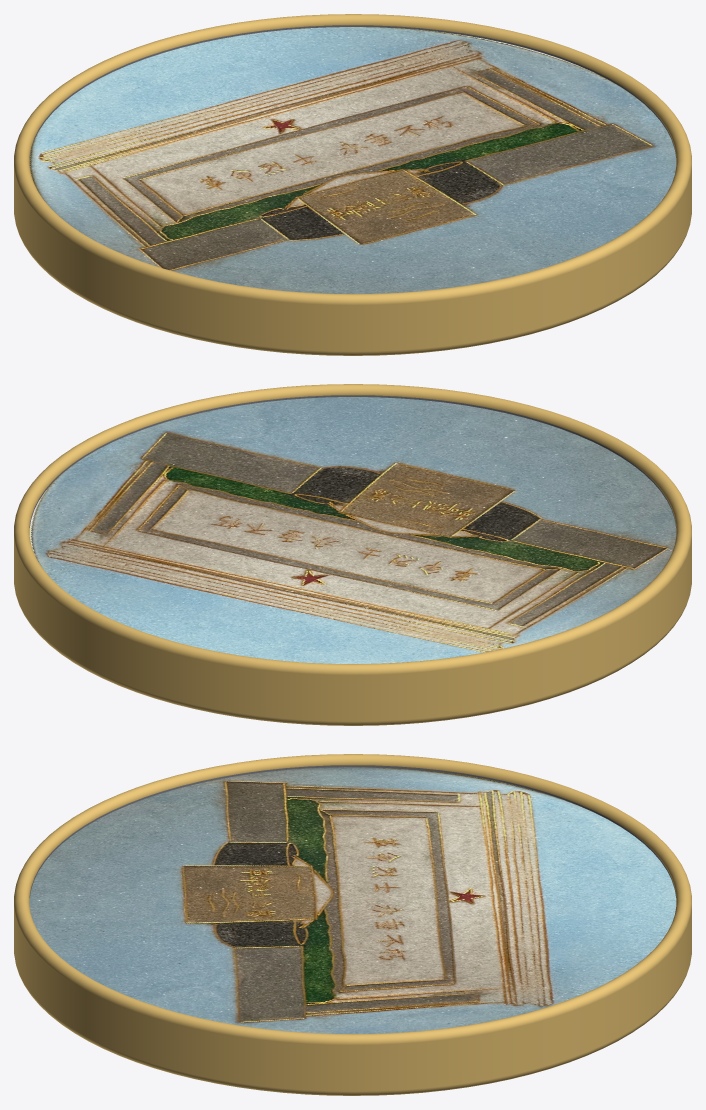
File: 朱泾无名烈士墓.glb
3 views of the same model, one above another, from view 1: azimuth 30°, elevation 25°; view 2: azimuth 150°, elevation 25°; view 3: azimuth 270°, elevation 25° (orthographic).
Parts seen in each view (by area): view 1: Mesh_1, Mesh_2, Mesh_0; view 2: Mesh_1, Mesh_2, Mesh_0; view 3: Mesh_1, Mesh_2, Mesh_0.
Boxes of the visible parts, box(x1,y1,x2,y2) form: Mesh_1: box(29, 27, 676, 293); Mesh_2: box(14, 14, 691, 355); Mesh_0: box(29, 25, 676, 157); Mesh_1: box(29, 397, 676, 663); Mesh_2: box(14, 384, 691, 725); Mesh_0: box(29, 395, 676, 527); Mesh_1: box(29, 767, 676, 1033); Mesh_2: box(14, 754, 691, 1095); Mesh_0: box(29, 765, 676, 897).
Size of the model in its own units: 0.173 by 0.017 by 0.1729.
3 materials, 1 textured.
